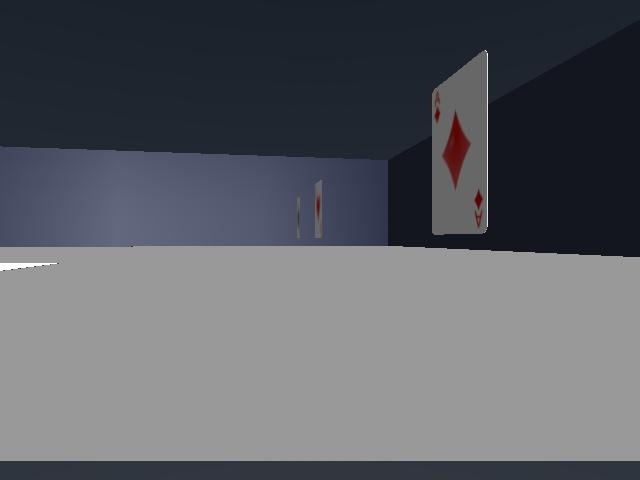diamond: (432, 51, 487, 234)
